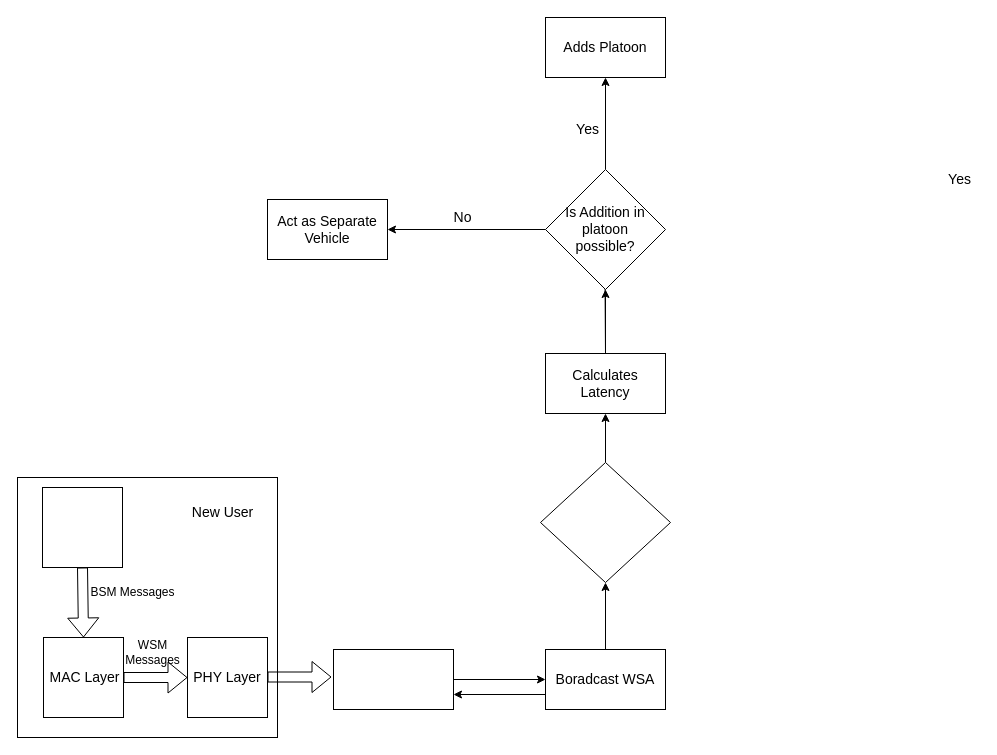
This 997x755 diagram has some shape labels left out. Here are the shapes that lost their labels. From the top down, the centre of each, then its label:
point (82, 527): Application Layer
point (605, 522): Is Any Head of Platoon nearby?
point (393, 679): 802.11p Interface
